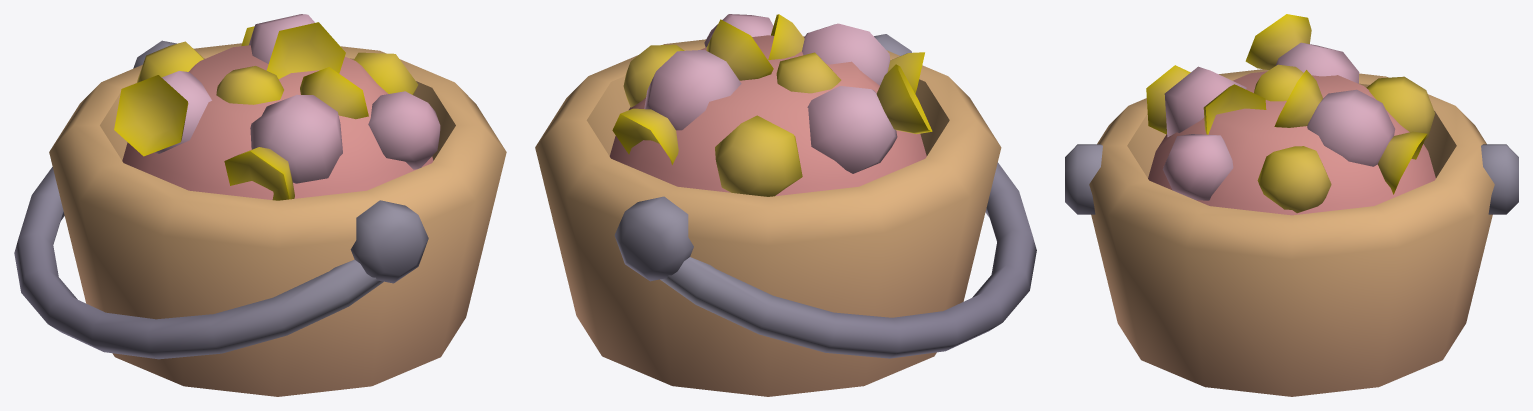
File: candy-bowl.glb
3 views of the same model, side by side, from view 1: azimuth 30°, elevation 25°; view 2: azimuth 150°, elevation 25°; view 3: azimuth 270°, elevation 25° (orthographic). The views are drawn at different scales.
Parts seen in each view (by area): view 1: candy-bowl; view 2: candy-bowl; view 3: candy-bowl.
Part boxes in pixels (left/top/right/bottom): candy-bowl: left=14, top=14, right=506, bottom=396; candy-bowl: left=535, top=14, right=1036, bottom=396; candy-bowl: left=1065, top=14, right=1518, bottom=396.
Size of the model in its own units: 0.3782 by 0.2384 by 0.3752.
